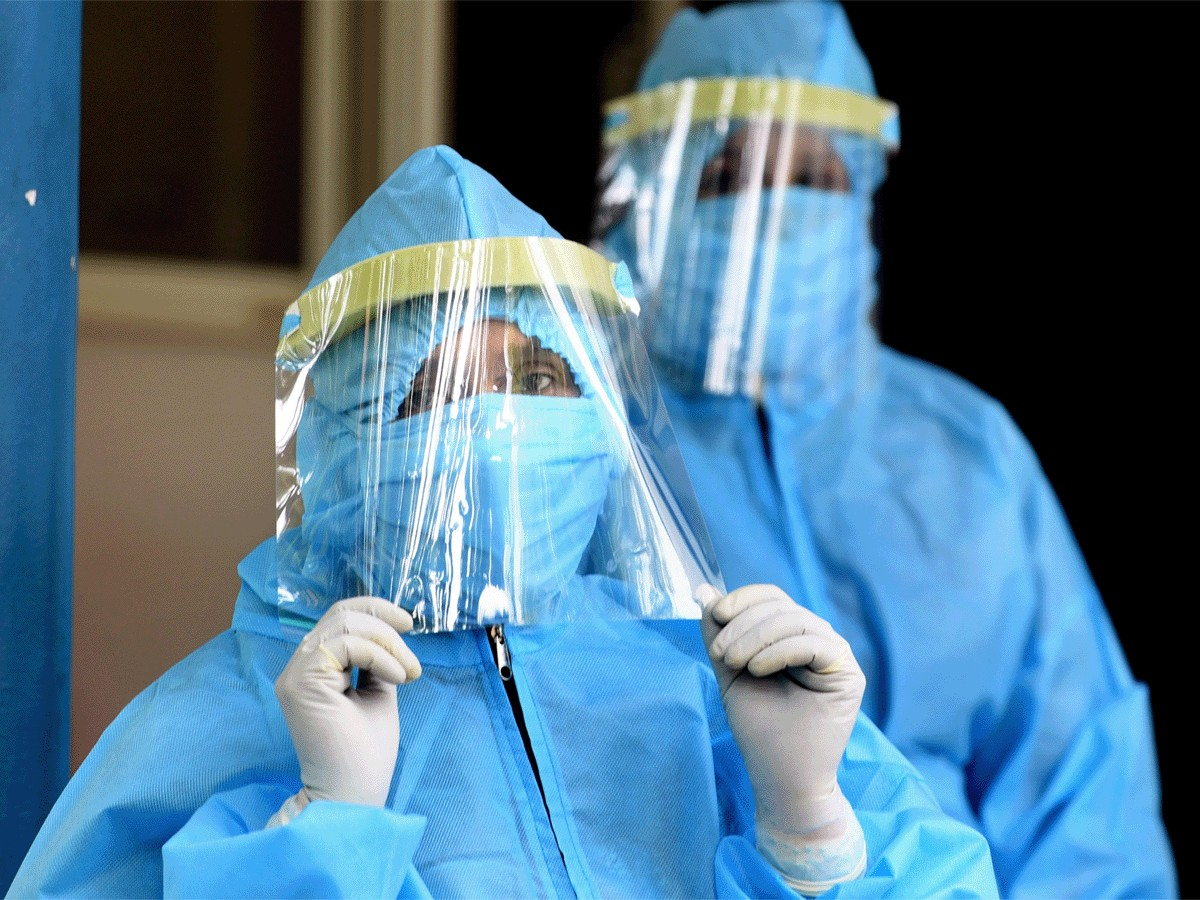Coverall: (3, 538, 1002, 900), (565, 349, 1178, 897)
Face_Shield: (272, 236, 737, 627), (590, 72, 906, 416)
Gloves: (689, 578, 868, 894), (276, 594, 426, 830)
with_mask: (373, 361, 617, 631), (684, 153, 863, 382)
